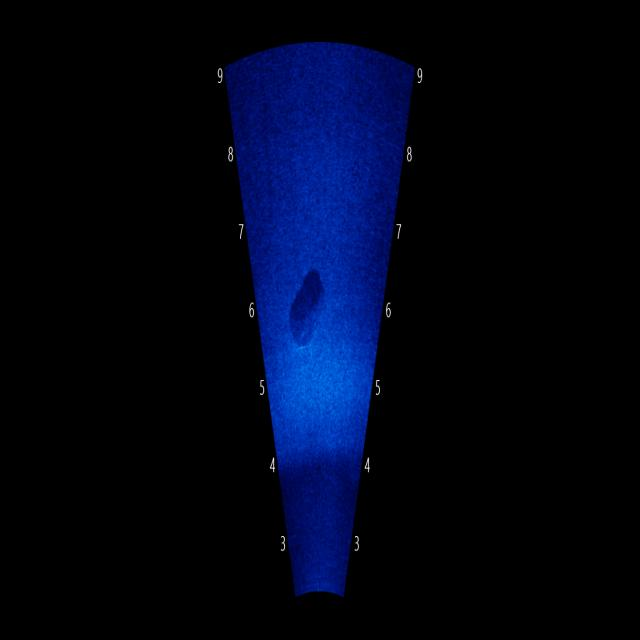square: (279, 251, 335, 359)
